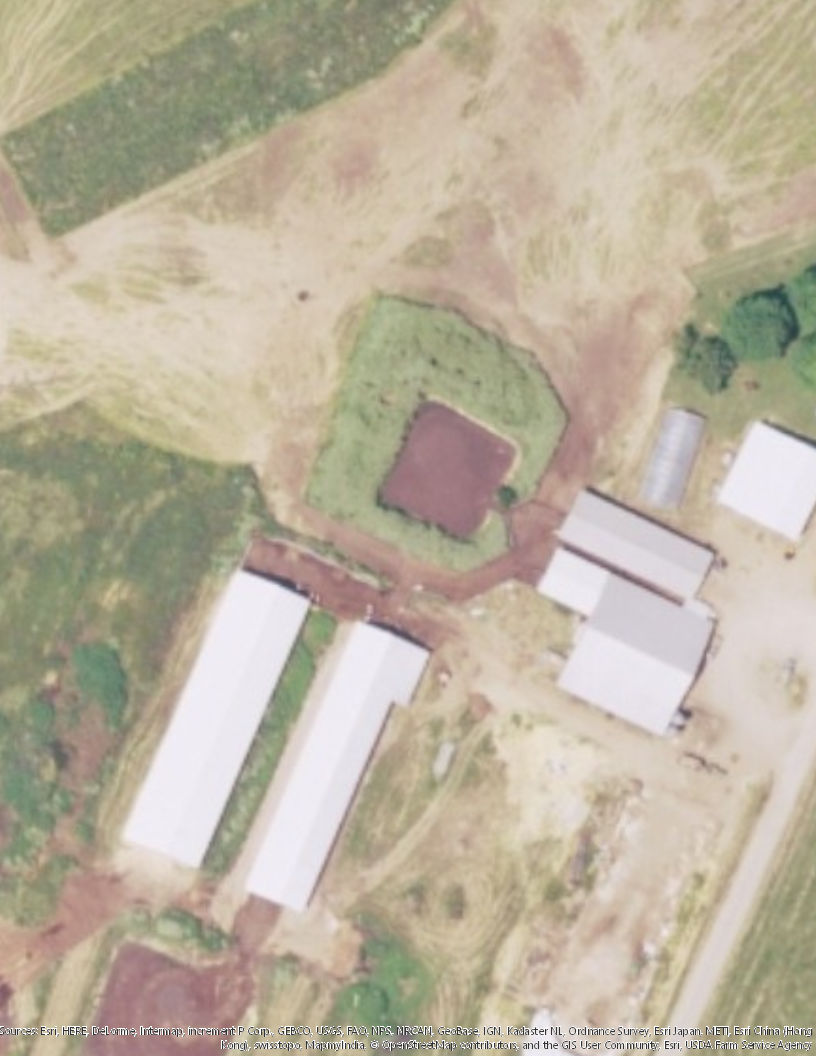cafo: (93, 548, 320, 872), (234, 582, 445, 924), (509, 469, 729, 744), (716, 407, 816, 552)
